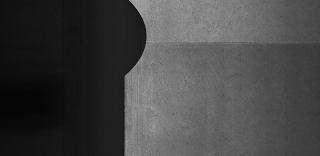silk spot: (147, 58, 313, 150), (185, 7, 259, 34)
welding line: (142, 39, 320, 49)
